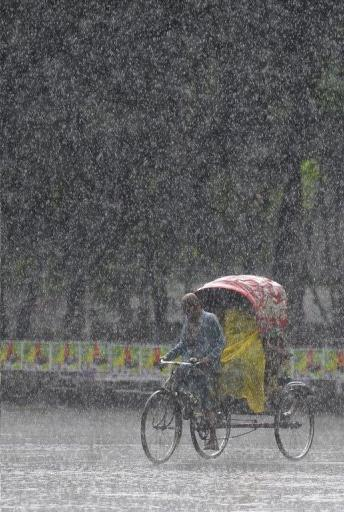Rickshaw: (135, 264, 319, 471)
